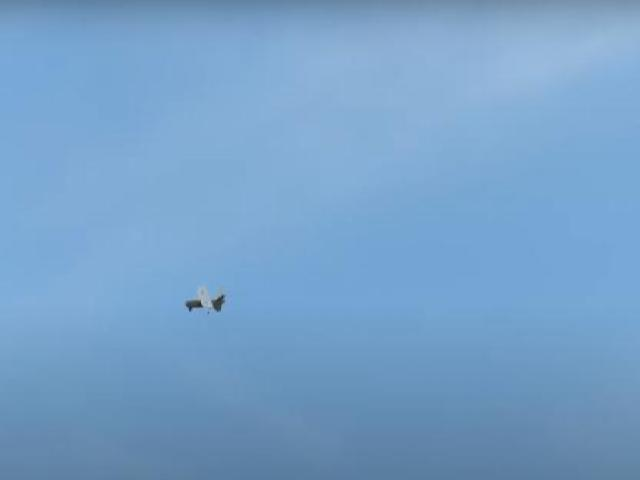uav: (182, 283, 227, 318)
